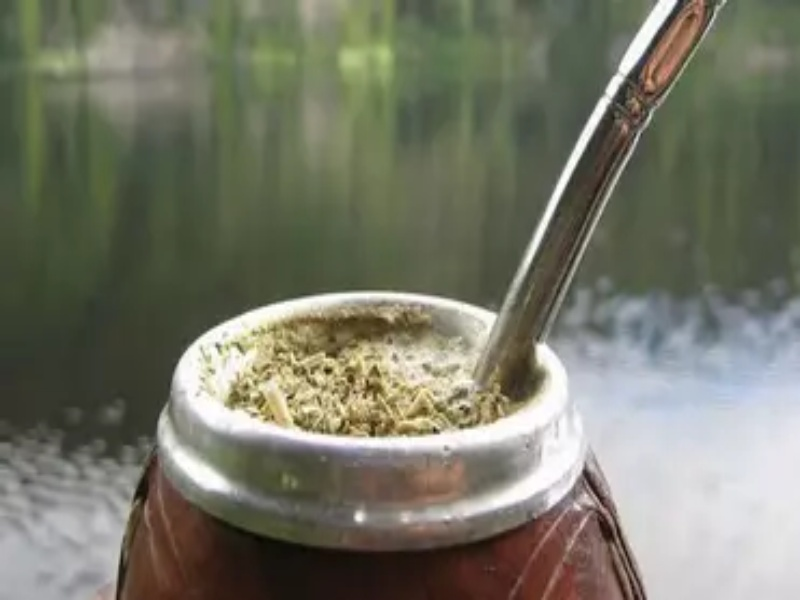guampa: (106, 42, 633, 600)
